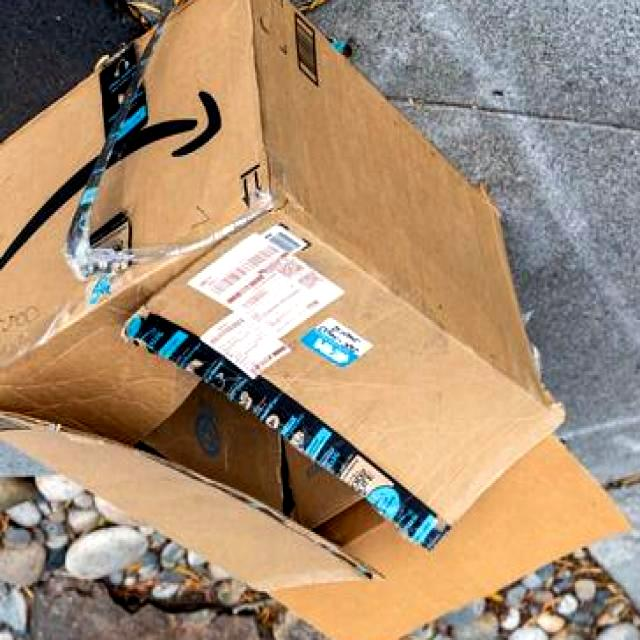Defect: (2, 18, 640, 640)
cut: (16, 35, 590, 609), (66, 129, 269, 281)
deform: (20, 39, 587, 614), (138, 382, 363, 526)
open: (13, 38, 598, 615)
